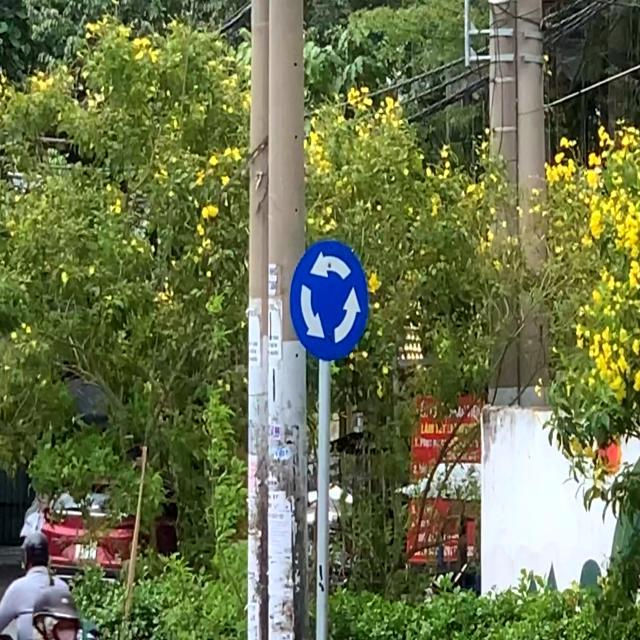R-303: (289, 239, 370, 362)
